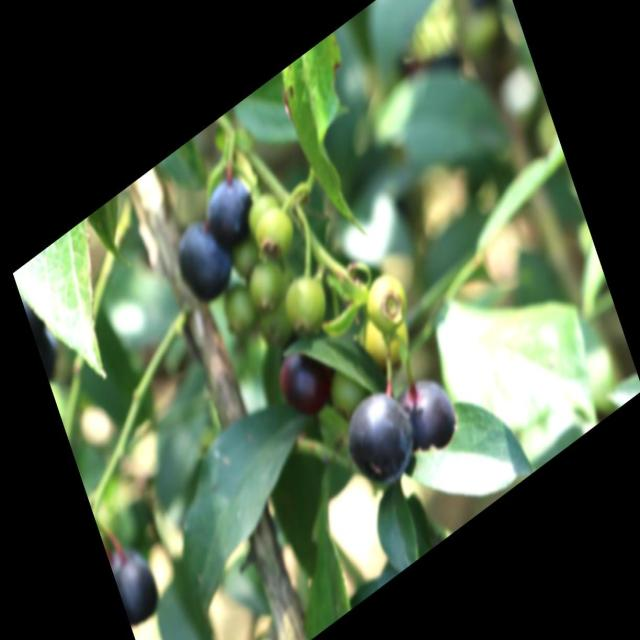blueberry: (339, 374, 424, 502), (382, 361, 464, 478), (171, 205, 238, 311), (105, 524, 167, 634), (273, 332, 335, 426), (199, 165, 260, 253)
blueberry-unripe: (280, 264, 330, 339), (361, 266, 411, 340), (247, 195, 298, 265), (245, 250, 287, 313)
